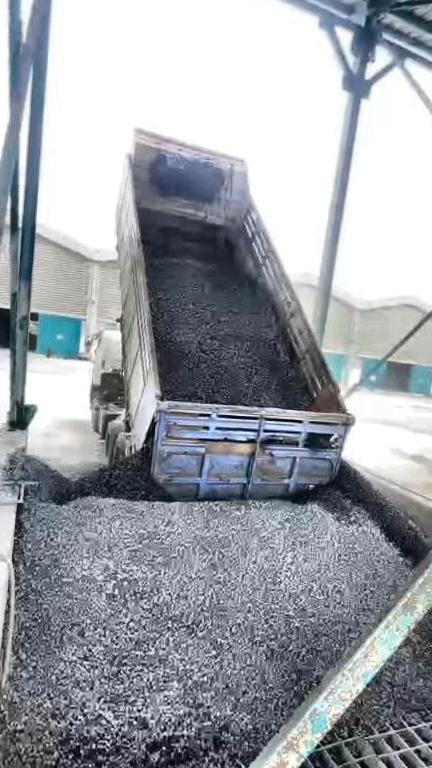gravel: (0, 494, 410, 768), (139, 210, 310, 408), (322, 574, 432, 742), (321, 462, 431, 565), (0, 445, 169, 504)
sand: (395, 450, 432, 517)
